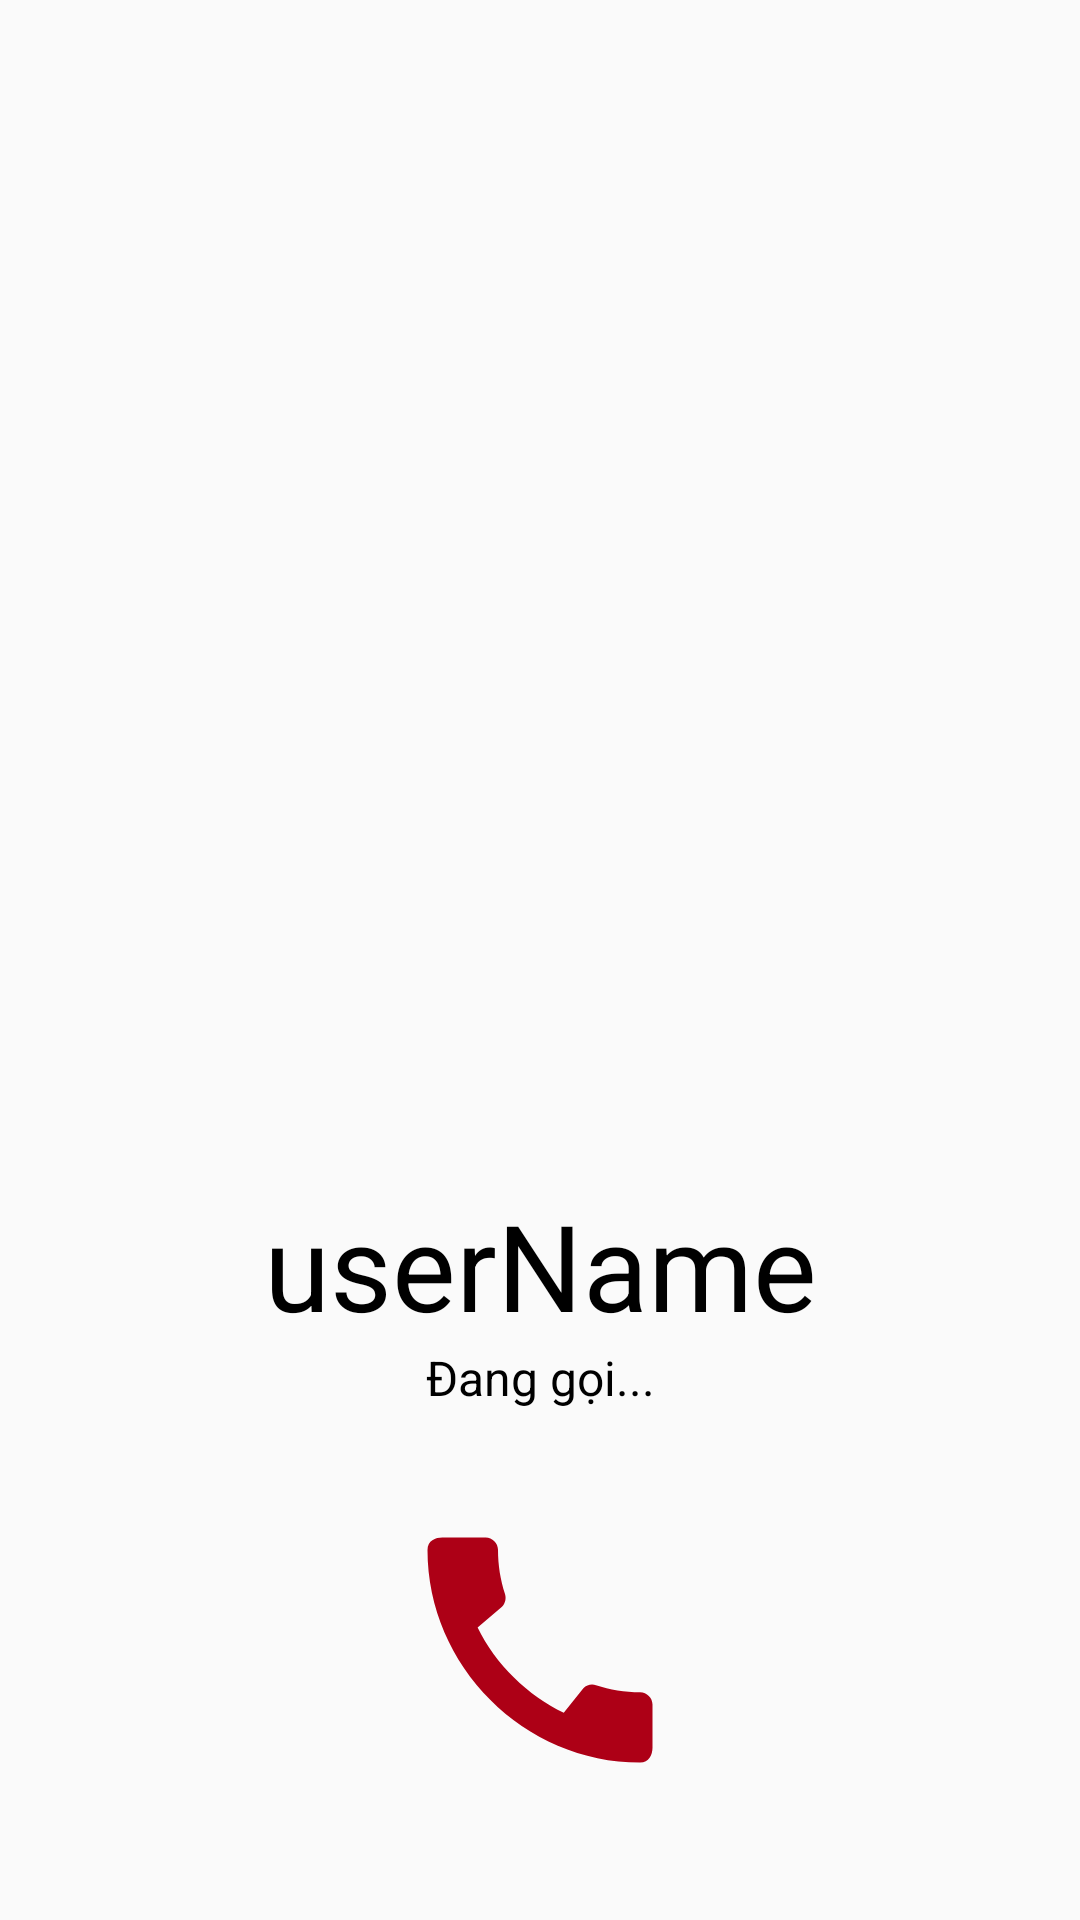

Icons on this 1080px x 1920px Android screen, each with its box as (x1,y1,x2,y2):
call: (427,1537,653,1763)
